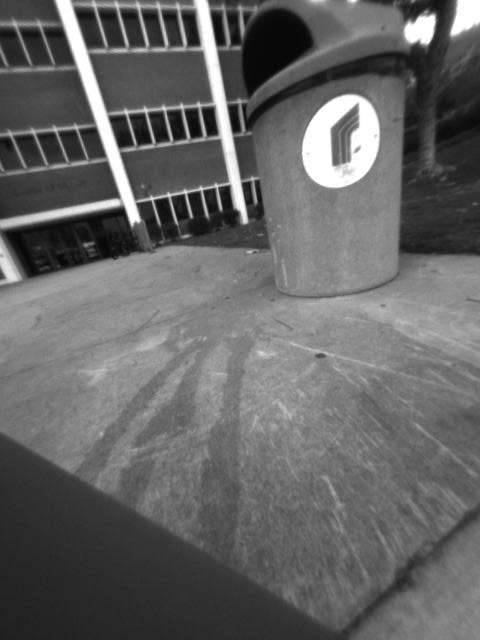trashcan: (241, 3, 416, 294)
